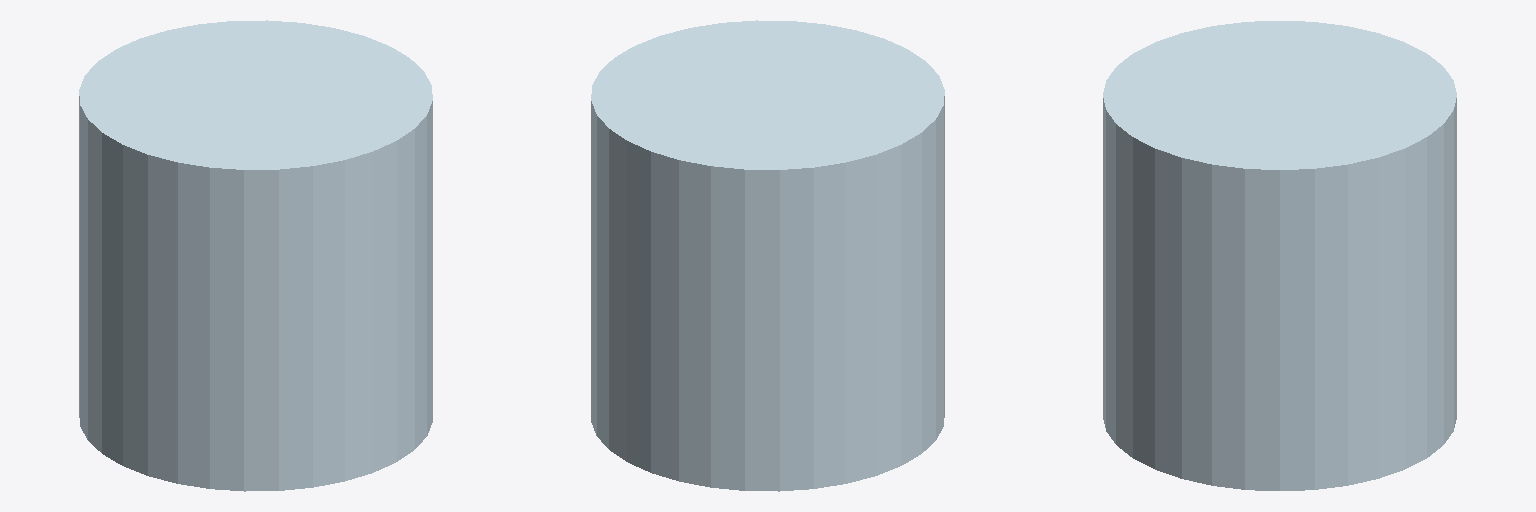
The robot description file, URDF, robot "montessori_object_6":
<?xml version="1.0" ?>
<robot name="montessori_object_6" version="1.0">
  <link name="montessori_object_6">
    <inertial>
      <origin xyz="0.0 0.0 0.0" rpy="0.0 0.0 0.0"/>
      <mass value="0.021205751225352287"/>
      <inertia ixx="2.7832547857542522e-06" ixy="0.0" ixz="0.0" iyy="2.7832547857542522e-06" iyz="0.0" izz="2.385646894254023e-06"/>
    </inertial>
    <visual name="MontessoriObject6">
      <origin xyz="0.0 0.0 0.0" rpy="0.0 0.0 0.0"/>
      <geometry>
        <cylinder radius="0.014999999664723873" length="0.029999999329447746"/>
      </geometry>
      <material name="MontessoriObject6_material">
        <color rgba="0.87 0.94 0.98 1.0"/>
      </material>
    </visual>
  </link>
</robot>

--- Render facts (derived) ---
The picture shows the robot from 3 angles, left to right: view 1: azimuth 30°, elevation 25°; view 2: azimuth 150°, elevation 25°; view 3: azimuth 270°, elevation 25°; orthographic projection.
Model montessori_object_6 with 1 links and 0 joints (none), rooted at montessori_object_6, posed all joints at 0.
Links seen in each view (by area): view 1: montessori_object_6; view 2: montessori_object_6; view 3: montessori_object_6.
Link boxes in pixels (bbox=[...]): montessori_object_6: bbox=[79, 20, 432, 491]; montessori_object_6: bbox=[591, 20, 944, 491]; montessori_object_6: bbox=[1103, 21, 1456, 490].
Bounding box of the posed robot: 0.03 × 0.03 × 0.03 m (x, y, z).
Geometry: primitives only (box / cylinder / sphere), no mesh files.